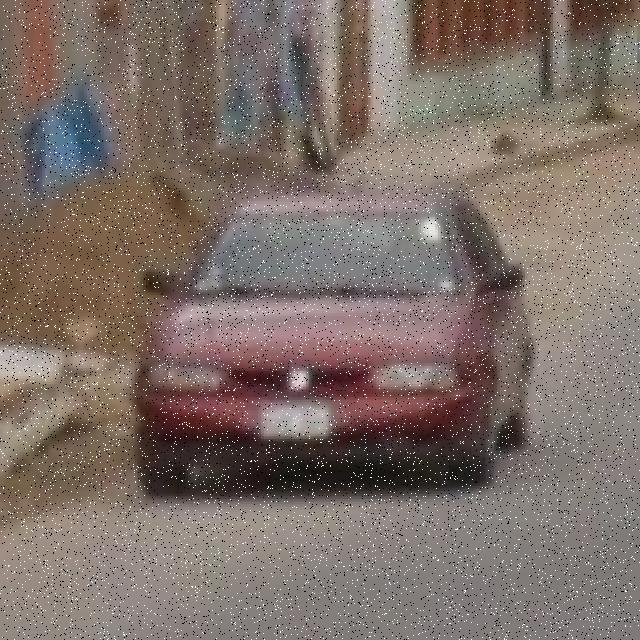cars: (147, 193, 542, 492)
